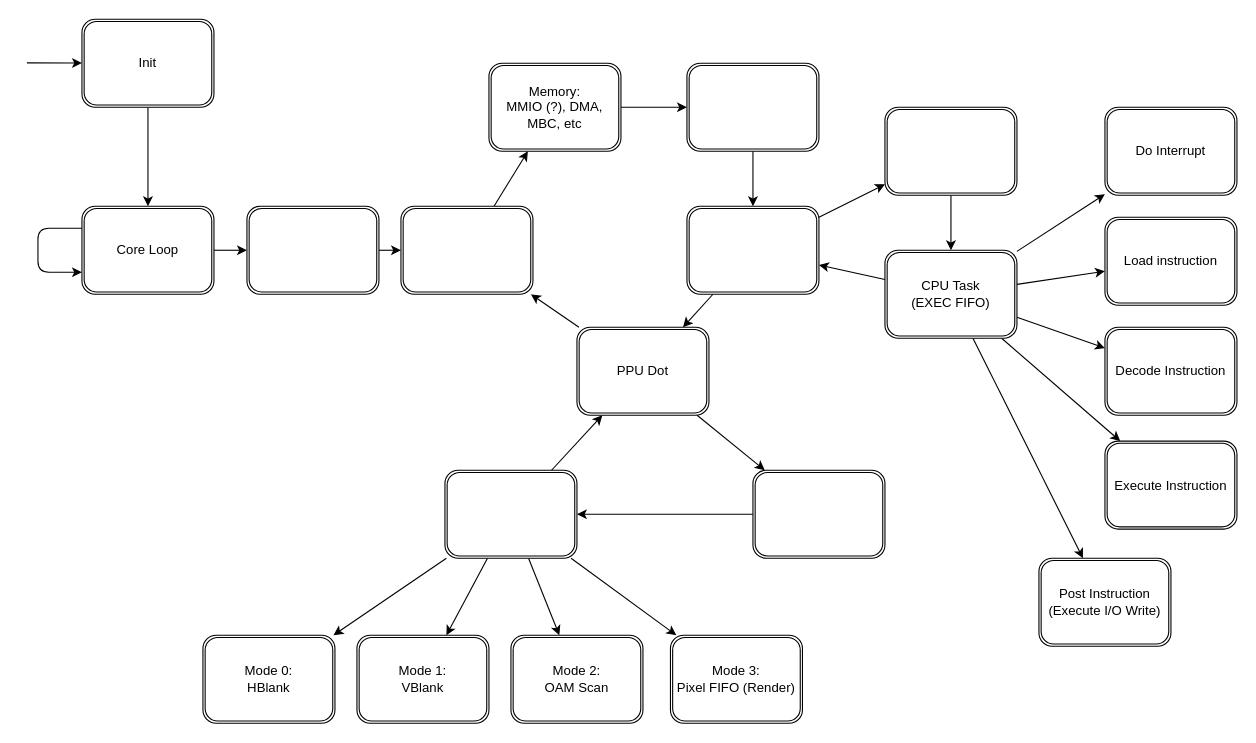
The diagram is 1256 pixels wide and 743 high, and some of its shapes have lost their labels. Here are the shapes that lost their labels. From the top down, the centre of each, then its label:
At [752,106]: "Timer".
At [950,150]: "Check Interrupts".
At [312,249]: "Update Init: MMIO".
At [466,249]: "Update 70.224 Cycle/Dots per Frame".
At [752,249]: "CPU Cycle".
At [510,513]: "Mode Task".
At [818,513]: "Mode Switch".
